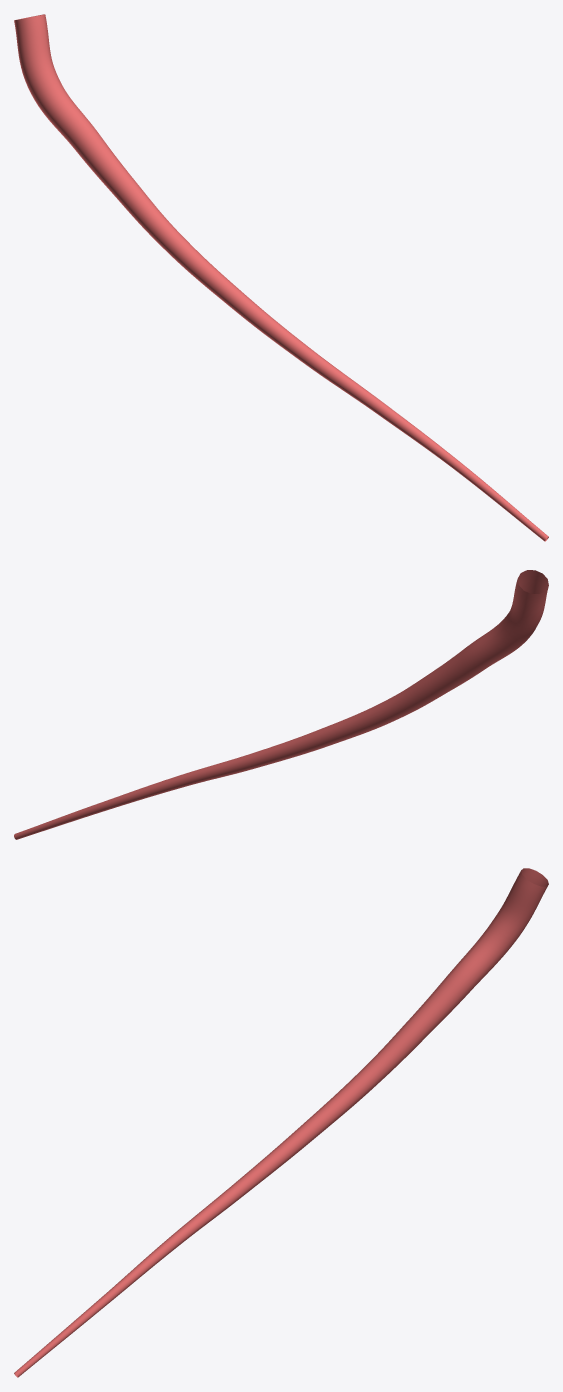
The model's file is Posterior_superior_alveolar_artery.r.001_BezierCurve.107.glb.
The picture shows the model from 3 angles, top to bottom: view 1: azimuth 30°, elevation 25°; view 2: azimuth 210°, elevation 25°; view 3: azimuth 270°, elevation 25°; orthographic projection. The views are drawn at different scales.
Visible parts, largest first — view 1: Posterior_superior_alveolar_artery.r.001_BezierCurve.107; view 2: Posterior_superior_alveolar_artery.r.001_BezierCurve.107; view 3: Posterior_superior_alveolar_artery.r.001_BezierCurve.107.
Boxes of the visible parts, bbox=[...] form: Posterior_superior_alveolar_artery.r.001_BezierCurve.107: bbox=[14, 14, 548, 541]; Posterior_superior_alveolar_artery.r.001_BezierCurve.107: bbox=[14, 570, 548, 839]; Posterior_superior_alveolar_artery.r.001_BezierCurve.107: bbox=[14, 868, 548, 1377].
Bounding box in the file's own units: 0.0097 × 0.0136 × 0.0171.
